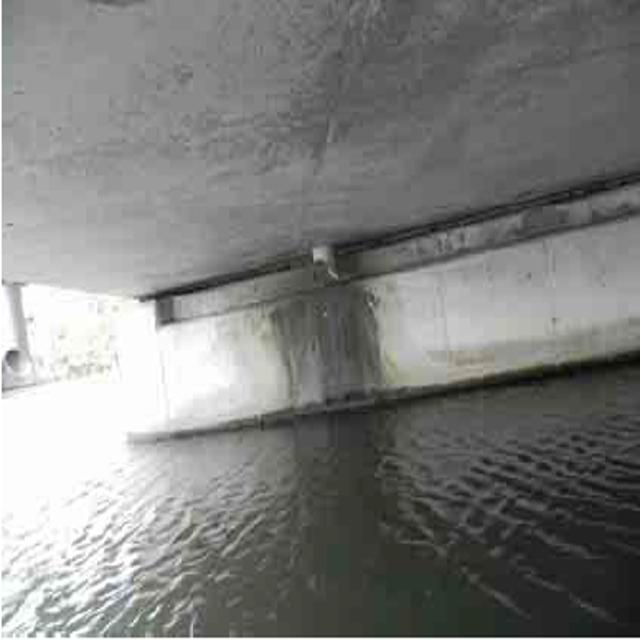leakage: (249, 239, 400, 410)
